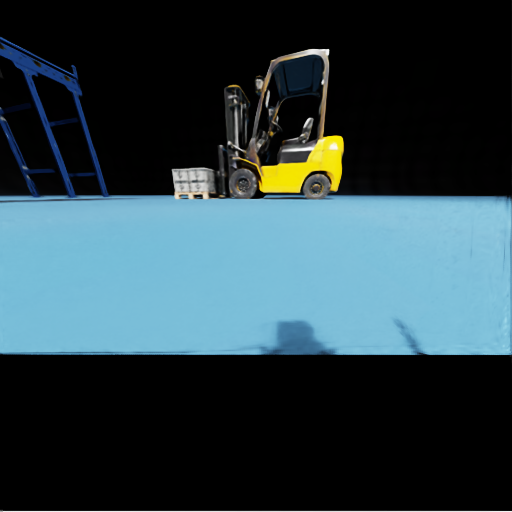transportation_area: (190, 180, 219, 191), (13, 50, 14, 51)
